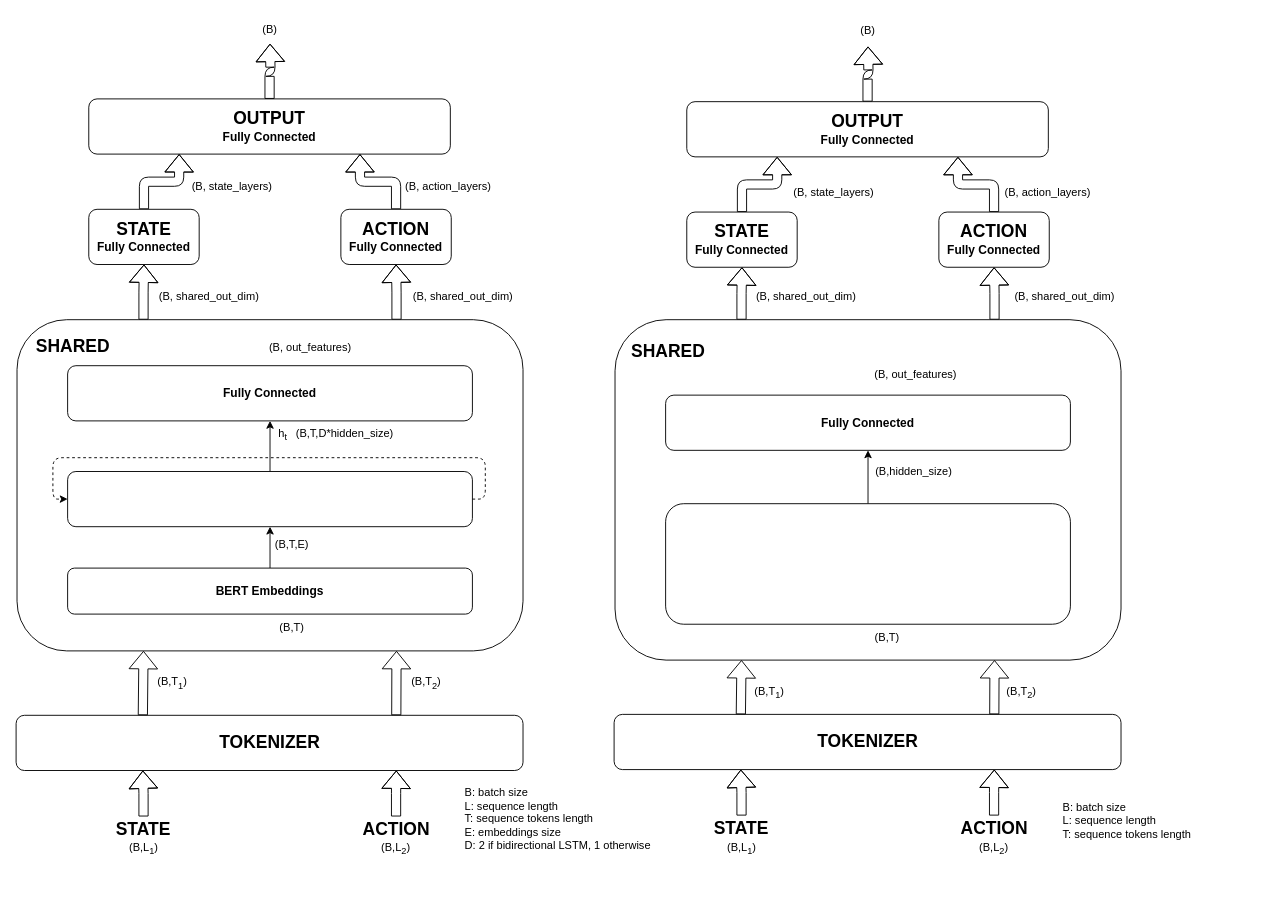
This 1281x914 diagram has some shape labels left out. Each missing label, with the centre of its shape:
"BERT (Embeddings + Encoder + Pooler)" belongs at pixel 867 563.
"LSTM" belongs at pixel 269 499.
